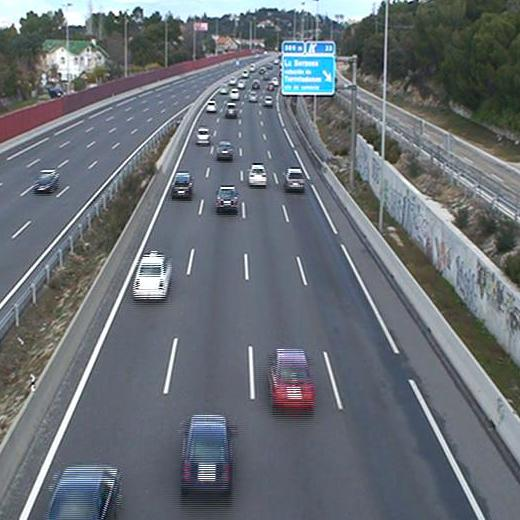car: (179, 414, 236, 492), (265, 348, 316, 409), (131, 249, 172, 300), (169, 171, 193, 197), (215, 185, 240, 209), (284, 166, 305, 190), (247, 163, 269, 185), (215, 142, 234, 158), (194, 128, 210, 142), (225, 103, 237, 116), (205, 100, 217, 111)
